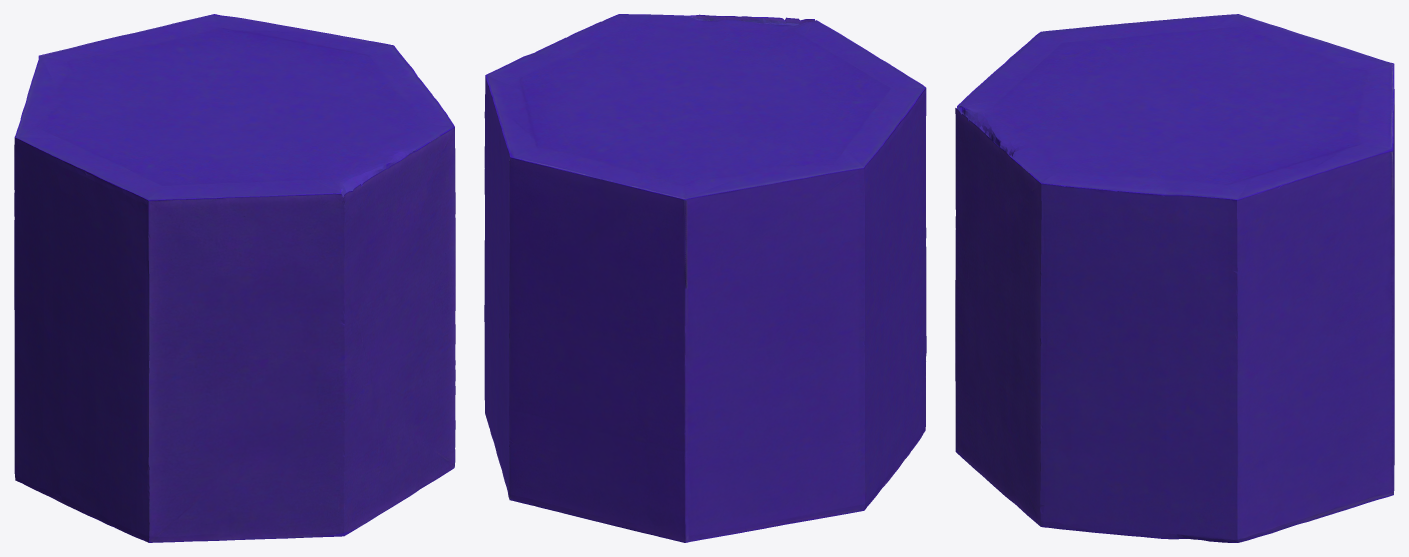
File: heptagono3d.glb
The picture shows the model from 3 angles, left to right: view 1: azimuth 30°, elevation 25°; view 2: azimuth 150°, elevation 25°; view 3: azimuth 270°, elevation 25°; orthographic projection.
Visible parts, largest first — view 1: temp; view 2: temp; view 3: temp.
Part boxes in pixels (x1,y1,x2,y2): temp: (14,14,455,542); temp: (484,14,926,542); temp: (955,14,1394,542).
Size of the model in its own units: 1.99 by 1.73 by 1.98.
Materials: 1 (1 with a texture image).
